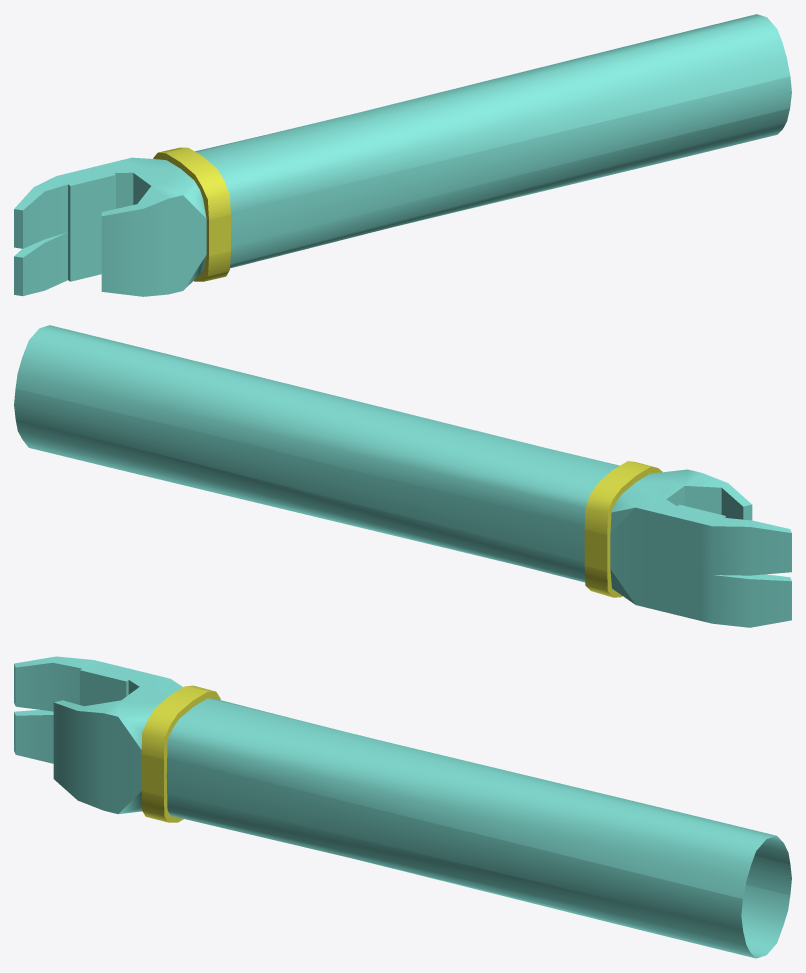
File: MODEL_PLAYER_Arm.fbx
The picture shows the model from 3 angles, top to bottom: view 1: azimuth 30°, elevation 25°; view 2: azimuth 150°, elevation 25°; view 3: azimuth 330°, elevation 25°; orthographic projection.
Visible parts, largest first — view 1: RobotBody.001; view 2: RobotBody.001; view 3: RobotBody.001.
Boxes of the visible parts, x1,y1,x2,y2 form: RobotBody.001: (14,14,791,296); RobotBody.001: (14,325,791,627); RobotBody.001: (14,656,791,958).
Size of the model in its own units: 184 by 26.94 by 24.16.
